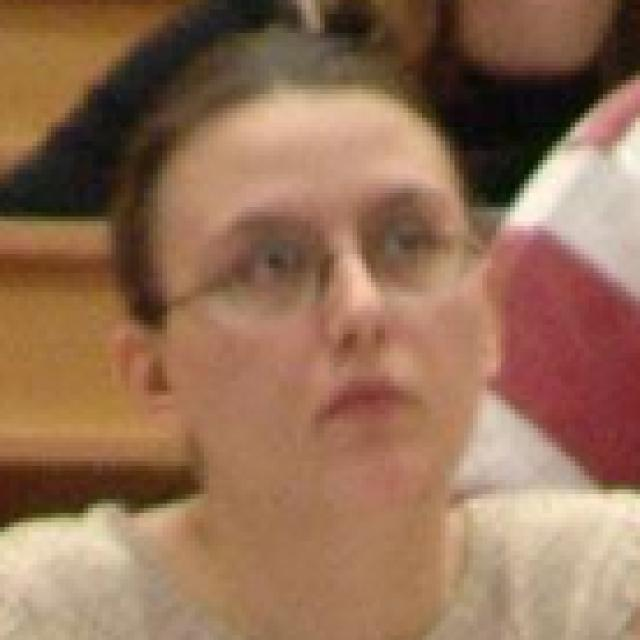Attentive: (122, 82, 506, 527)
